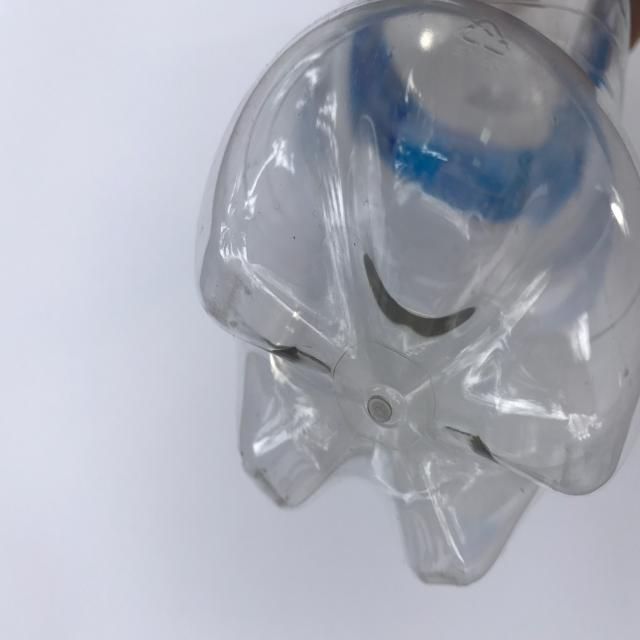plastic: (194, 0, 640, 587)
